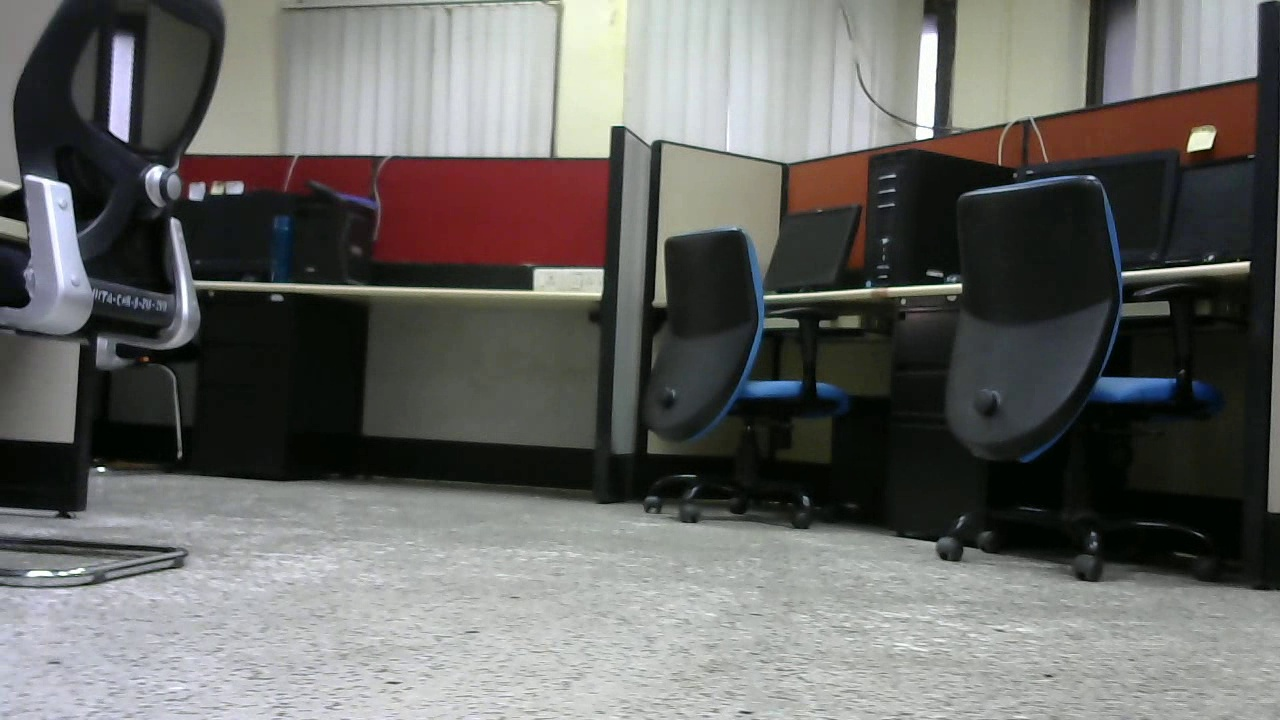chair: (941, 162, 1225, 586), (637, 227, 846, 530)
